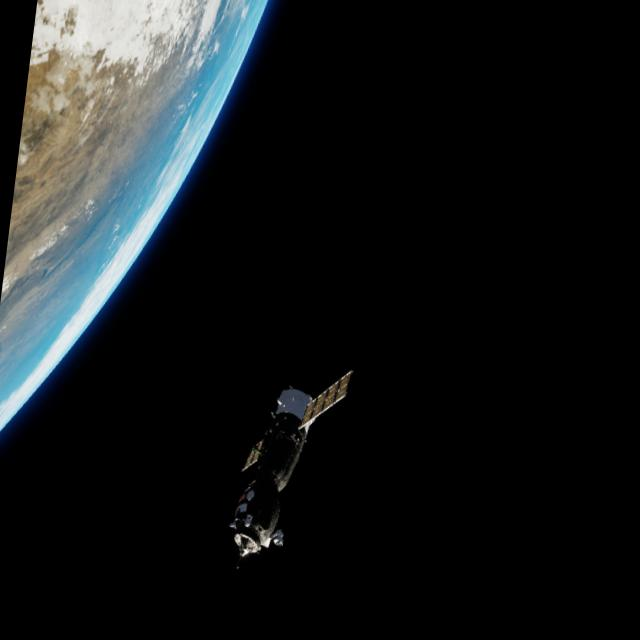Satellites revolving around earth: (0, 0, 272, 481), (222, 353, 355, 580)
